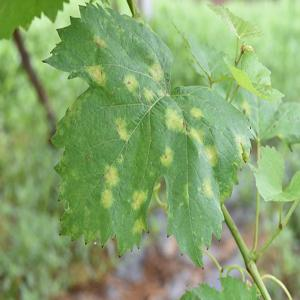Folha: (42, 2, 254, 268)
Fungo: (206, 2, 263, 103), (224, 39, 255, 102), (100, 162, 120, 208), (164, 106, 184, 132), (234, 40, 254, 66), (86, 64, 107, 87), (103, 163, 120, 188), (114, 116, 130, 142), (148, 60, 164, 83), (159, 145, 174, 167), (123, 73, 139, 93), (100, 186, 114, 208), (239, 139, 251, 163), (202, 176, 214, 200), (240, 100, 251, 122), (92, 34, 107, 48), (240, 40, 254, 54), (143, 86, 155, 102), (189, 106, 203, 119), (126, 80, 130, 85)
